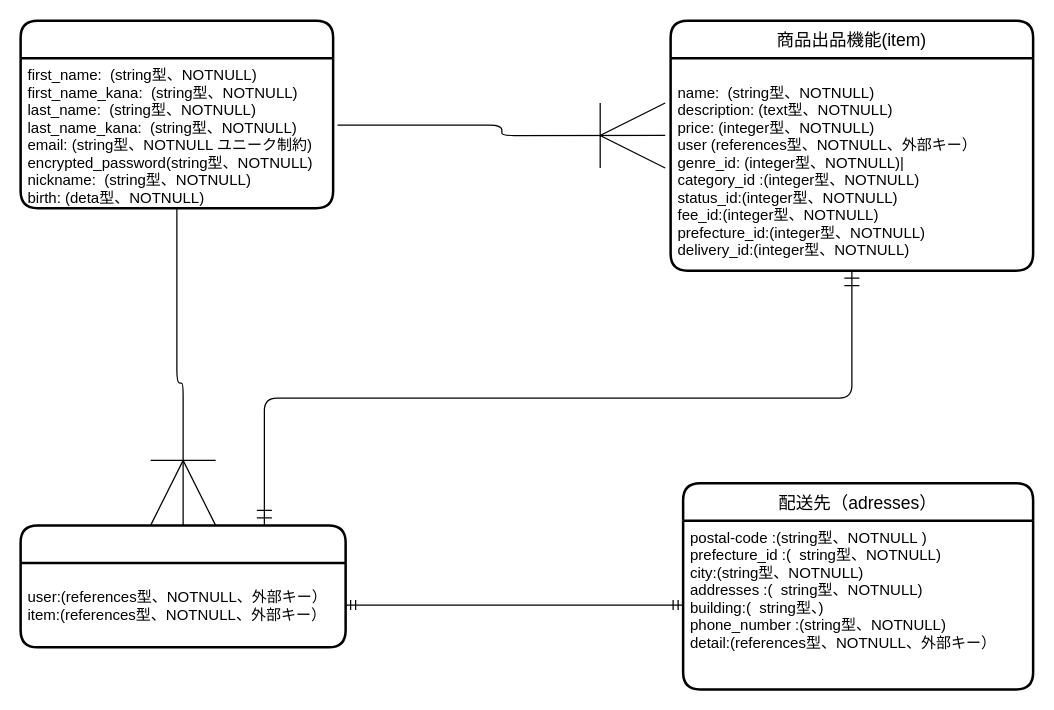
Image size: 1054x710. Some labels were removed from this diagram. The box of each missing label's shape, as (x1, y1, x2, y2) in pixels:
ユーザー管理機能(user): (19, 19, 334, 209)
商品購入機能(orders): (19, 524, 346, 648)
